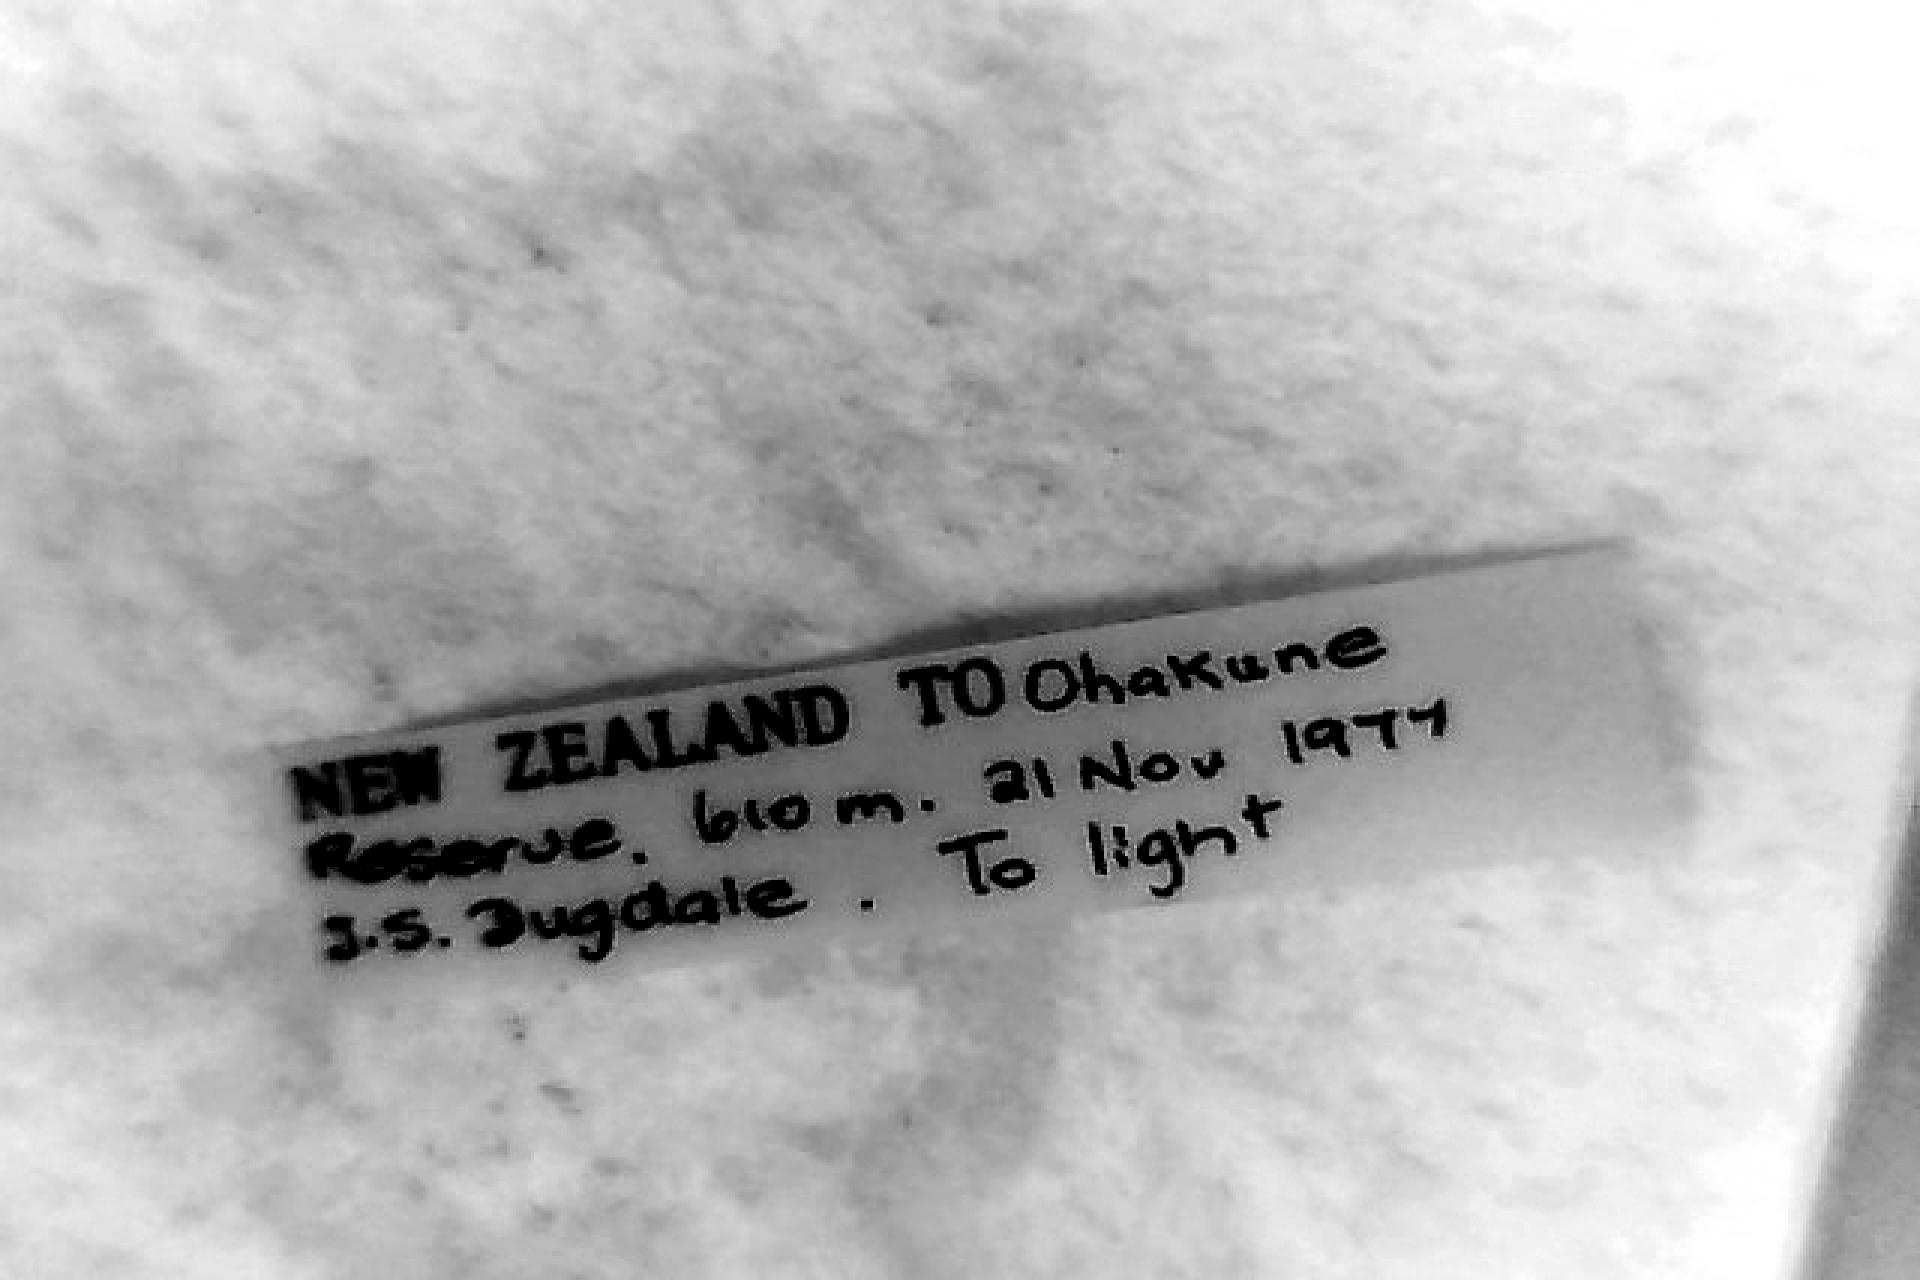mixed_label: (286, 550, 1661, 986)
